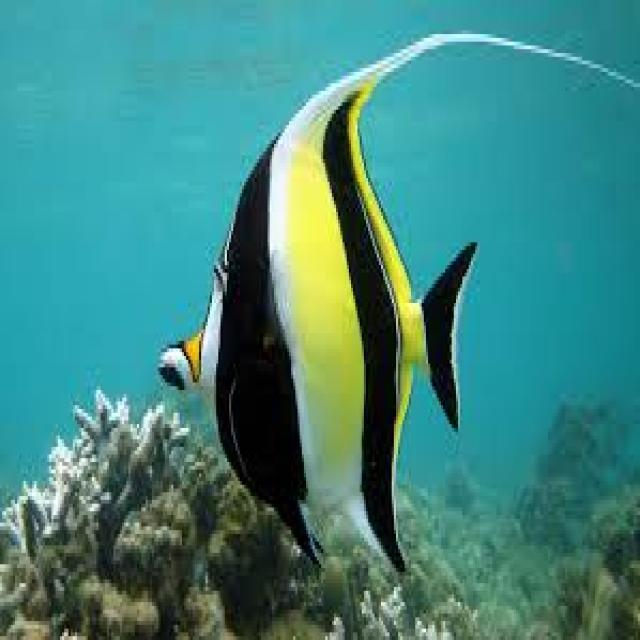MorishIdol: (155, 27, 636, 583)
